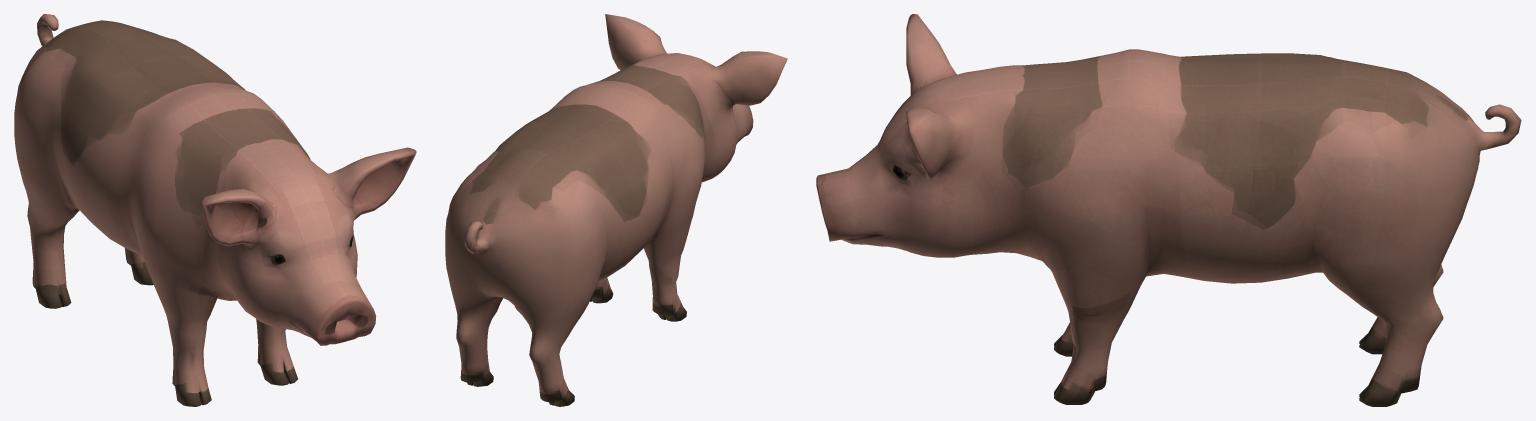
The model's file is pig.glb.
3 views of the same model, side by side, from view 1: azimuth 30°, elevation 25°; view 2: azimuth 150°, elevation 25°; view 3: azimuth 270°, elevation 25° (orthographic). The views are drawn at different scales.
Visible parts, largest first — view 1: GOE_pig; view 2: GOE_pig; view 3: GOE_pig.
Boxes of the visible parts, bbox=[...] form: GOE_pig: bbox=[14, 14, 416, 406]; GOE_pig: bbox=[445, 14, 787, 406]; GOE_pig: bbox=[816, 14, 1521, 406].
Size of the model in its own units: 0.3963 by 0.4887 by 1.
1 material, 1 textured.
